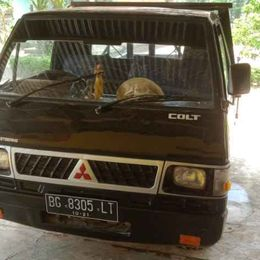plate: (44, 192, 120, 223)
